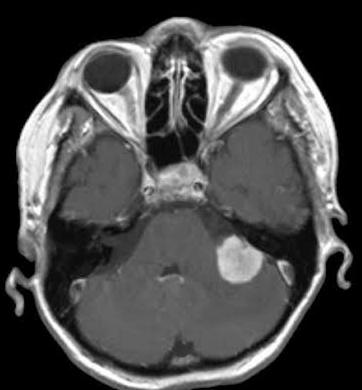Tumour-Meningioma: (212, 229, 277, 291)
